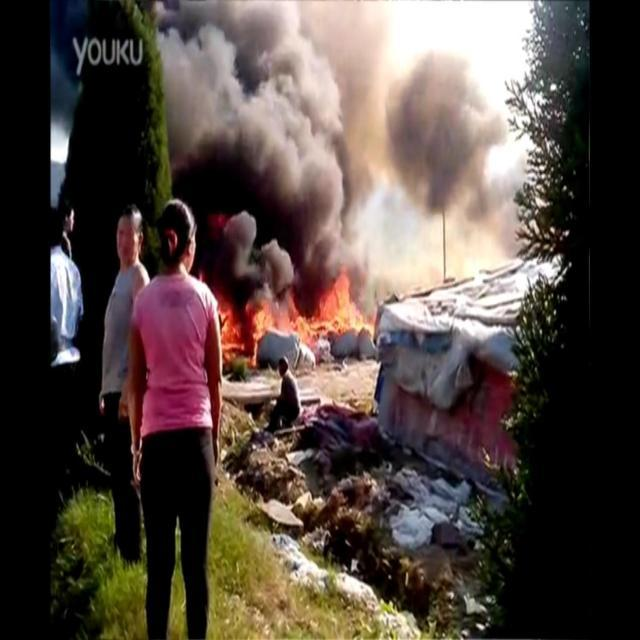Fire: (216, 270, 375, 366)
Smoke: (155, 2, 524, 326)
